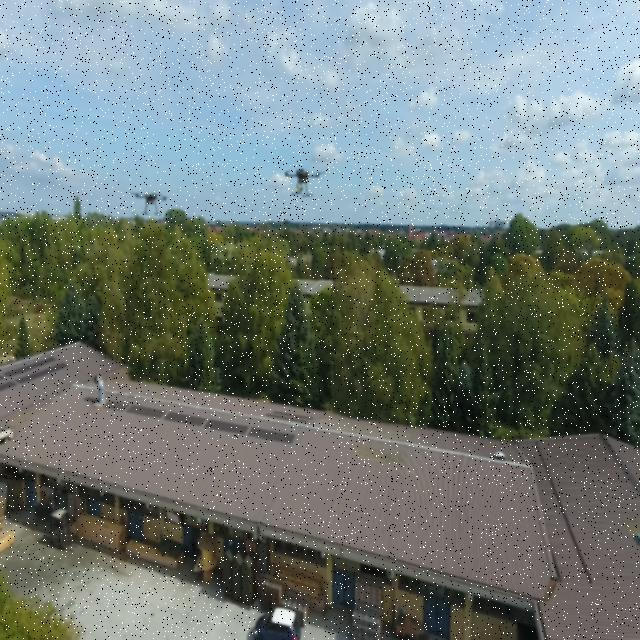UAV: (280, 162, 329, 202), (130, 185, 171, 220)
